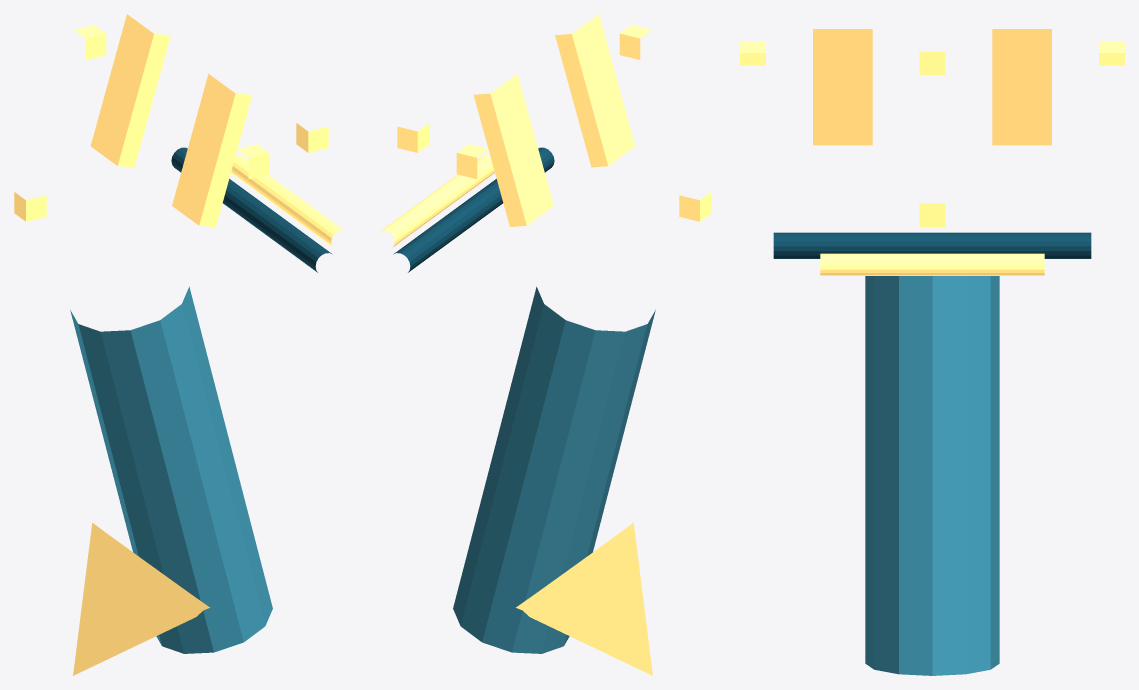
Rendered from naga-siren.glb.
3 views of the same model, side by side, from view 1: azimuth 30°, elevation 25°; view 2: azimuth 150°, elevation 25°; view 3: azimuth 270°, elevation 25° (orthographic). The views are drawn at different scales.
Visible parts, largest first — view 1: naga-siren-serpent-tail, naga-siren-tail-fin, naga-siren-head-fin-l, naga-siren-head-fin-r, naga-siren-song-ring, naga-siren-song-ring-2, naga-siren-flair-mote-3, naga-siren-flair-mote-1, naga-siren-flair-mote-0, naga-siren-flair-mote-2; view 2: naga-siren-serpent-tail, naga-siren-tail-fin, naga-siren-head-fin-r, naga-siren-head-fin-l, naga-siren-song-ring, naga-siren-song-ring-2, naga-siren-flair-mote-1, naga-siren-flair-mote-3, naga-siren-flair-mote-0, naga-siren-flair-mote-2; view 3: naga-siren-serpent-tail, naga-siren-song-ring, naga-siren-head-fin-l, naga-siren-head-fin-r, naga-siren-song-ring-2, naga-siren-flair-mote-2, naga-siren-flair-mote-0, naga-siren-flair-mote-1, naga-siren-flair-mote-3.
Boxes of the visible parts, x1,y1,x2,y2 form: naga-siren-serpent-tail: [70, 286, 272, 653]; naga-siren-tail-fin: [73, 523, 209, 675]; naga-siren-head-fin-l: [172, 74, 252, 226]; naga-siren-head-fin-r: [90, 14, 170, 167]; naga-siren-song-ring: [171, 147, 332, 272]; naga-siren-song-ring-2: [231, 156, 345, 246]; naga-siren-flair-mote-3: [74, 25, 106, 59]; naga-siren-flair-mote-1: [237, 144, 269, 178]; naga-siren-flair-mote-0: [296, 123, 328, 152]; naga-siren-flair-mote-2: [14, 192, 46, 221]; naga-siren-serpent-tail: [453, 286, 655, 653]; naga-siren-tail-fin: [516, 523, 652, 675]; naga-siren-head-fin-r: [473, 74, 553, 226]; naga-siren-head-fin-l: [555, 14, 635, 167]; naga-siren-song-ring: [393, 147, 554, 272]; naga-siren-song-ring-2: [380, 156, 494, 246]; naga-siren-flair-mote-1: [619, 25, 651, 59]; naga-siren-flair-mote-3: [456, 144, 488, 178]; naga-siren-flair-mote-0: [397, 123, 429, 152]; naga-siren-flair-mote-2: [679, 192, 711, 221]; naga-siren-serpent-tail: [865, 276, 999, 675]; naga-siren-song-ring: [773, 232, 1091, 258]; naga-siren-head-fin-l: [813, 29, 872, 145]; naga-siren-head-fin-r: [992, 29, 1051, 145]; naga-siren-song-ring-2: [820, 253, 1044, 275]; naga-siren-flair-mote-2: [919, 51, 945, 75]; naga-siren-flair-mote-0: [919, 203, 945, 226]; naga-siren-flair-mote-1: [740, 42, 765, 65]; naga-siren-flair-mote-3: [1099, 42, 1124, 65].
Bounding box in the file's own units: 1.03 × 1.94 × 1.03.
